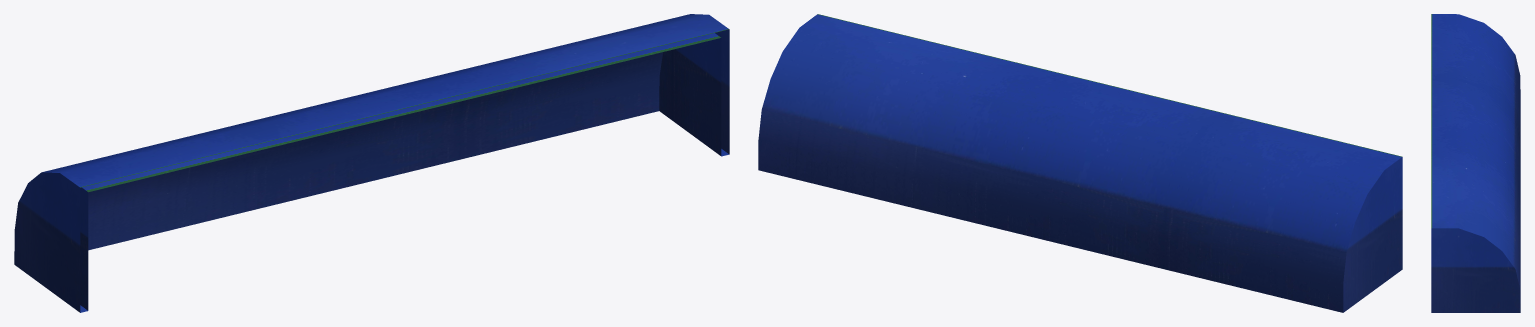
3 renders of one model, left to right at view 1: azimuth 30°, elevation 25°; view 2: azimuth 150°, elevation 25°; view 3: azimuth 270°, elevation 25°, orthographic. The views are drawn at different scales.
Visible parts, largest first — view 1: Awn (4); view 2: Awn (4); view 3: Awn (4).
Part boxes in pixels (left/top/right/bottom): Awn (4): left=14, top=14, right=729, bottom=312; Awn (4): left=758, top=14, right=1402, bottom=312; Awn (4): left=1431, top=14, right=1520, bottom=312.
Size of the model in its own units: 1278 by 236 by 225.
